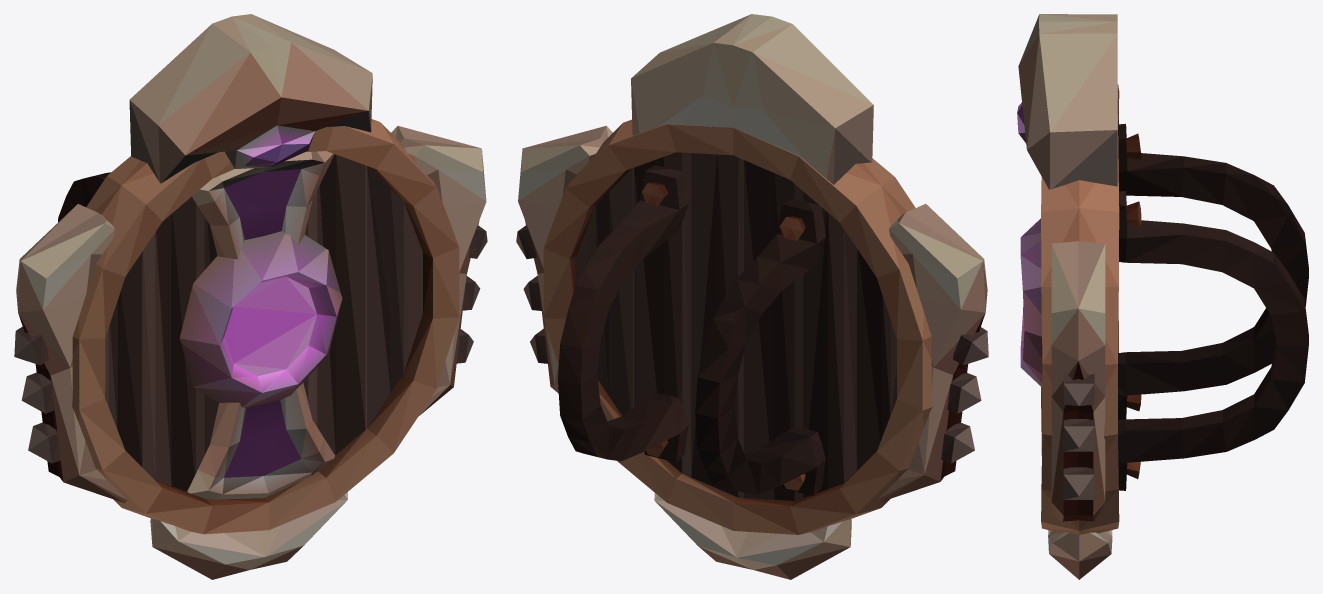
The model's file is weapon_shield_bronze_3.fbx.
3 views of the same model, side by side, from view 1: azimuth 30°, elevation 25°; view 2: azimuth 150°, elevation 25°; view 3: azimuth 270°, elevation 25° (orthographic).
Visible parts, largest first — view 1: weapon_shield_bronze_3; view 2: weapon_shield_bronze_3; view 3: weapon_shield_bronze_3.
Boxes of the visible parts, bbox=[...] form: weapon_shield_bronze_3: bbox=[14, 14, 487, 579]; weapon_shield_bronze_3: bbox=[516, 14, 988, 579]; weapon_shield_bronze_3: bbox=[1017, 14, 1308, 579].
Bounding box in the file's own units: 0.8146 × 0.8882 × 0.4345.
